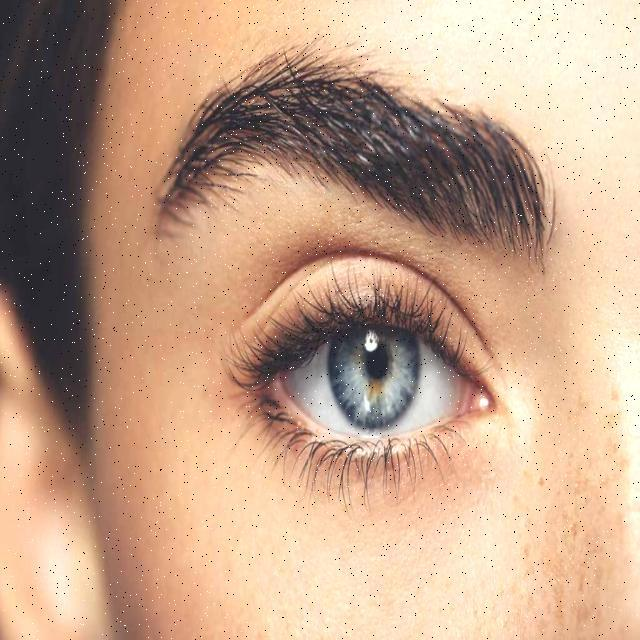Normal: (3, 1, 638, 638)
